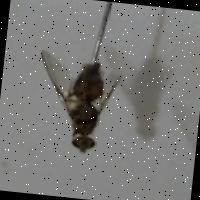Oriental-fruit-fly: (28, 44, 140, 181)
